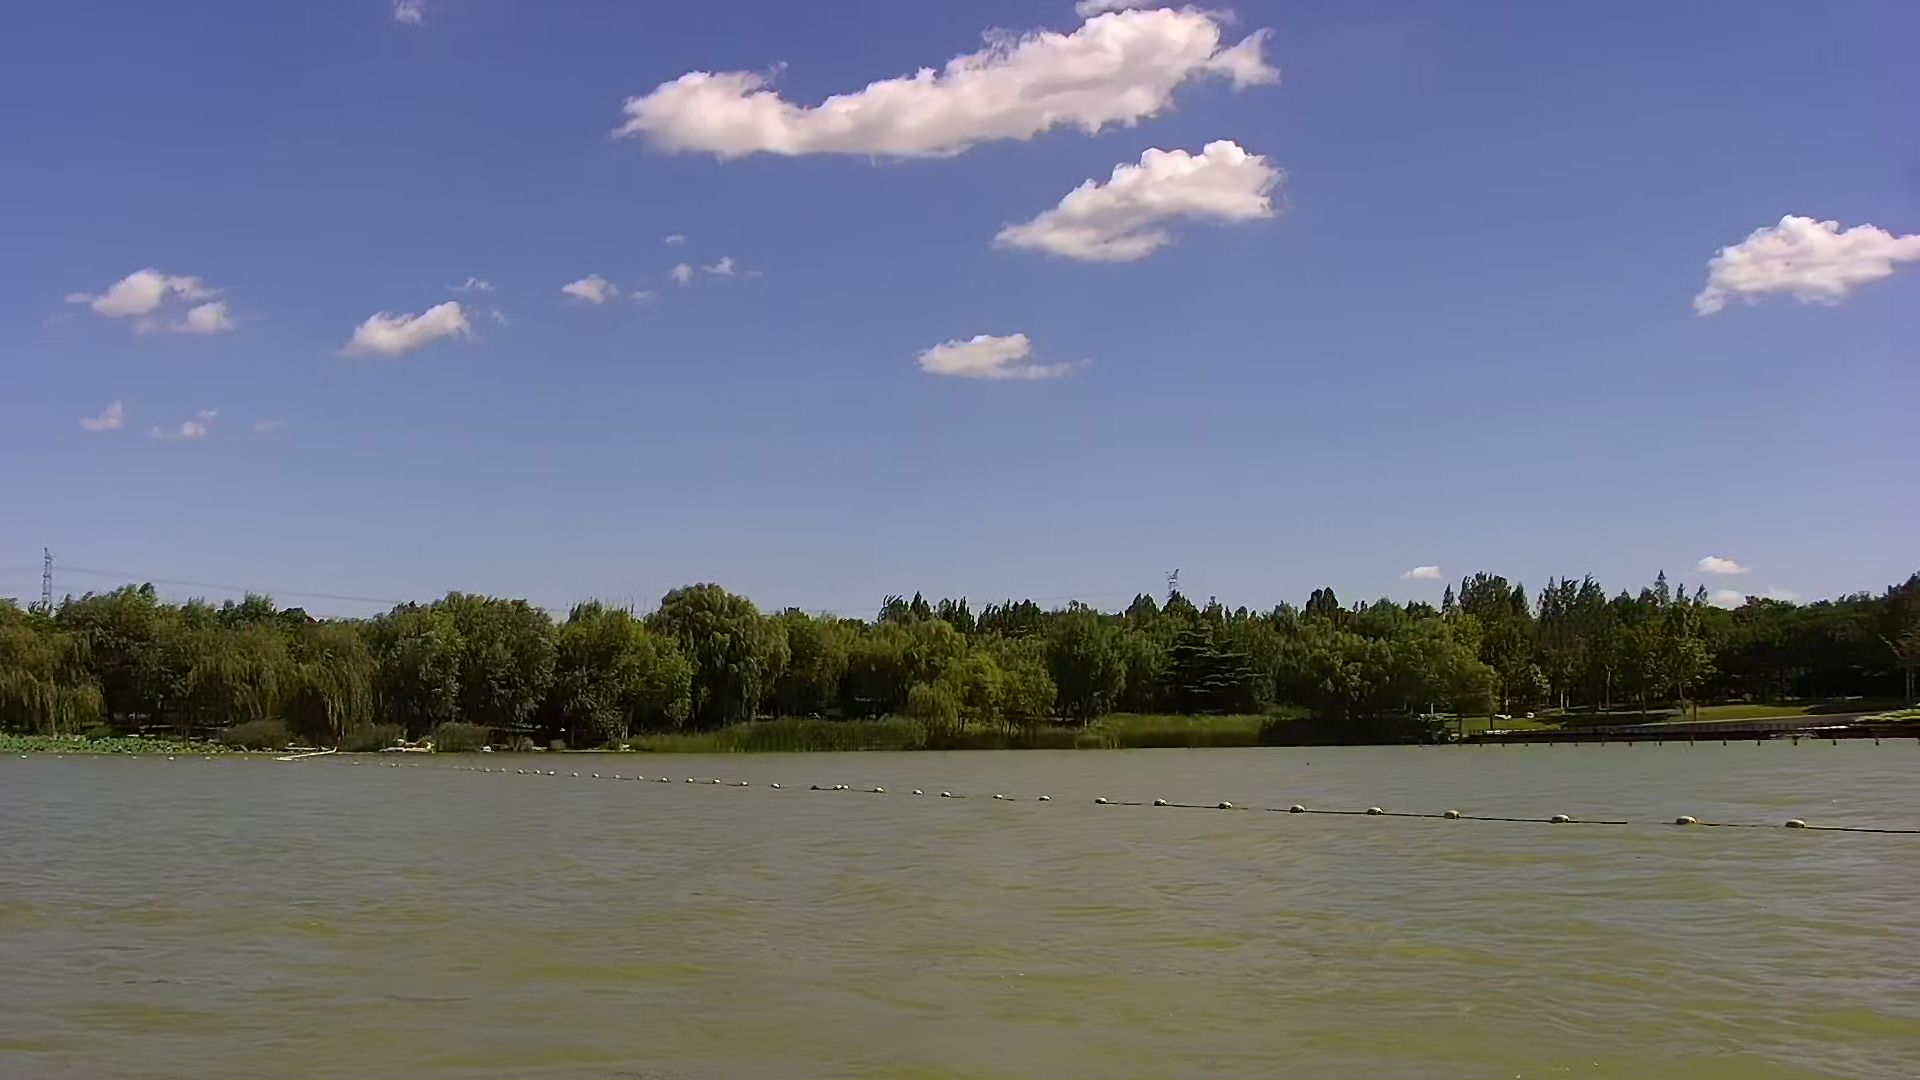ball: (1669, 802, 1714, 844), (1361, 793, 1400, 832), (1209, 789, 1249, 828), (1543, 800, 1578, 843), (1089, 781, 1129, 818), (1779, 802, 1813, 844), (1283, 790, 1321, 824), (1151, 781, 1178, 822), (1439, 796, 1465, 833)
